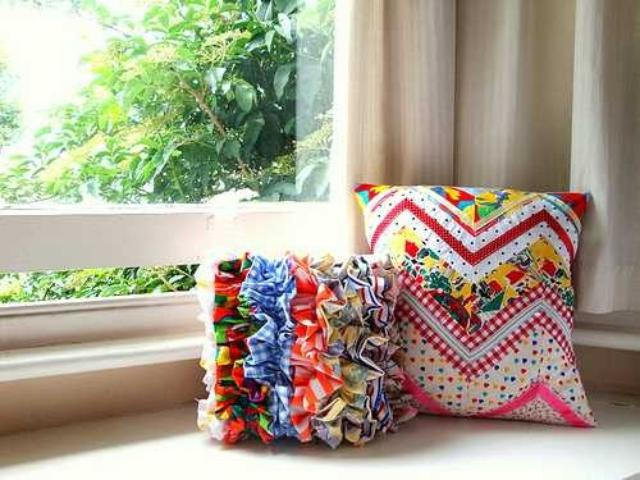pillow: (349, 180, 596, 428)
